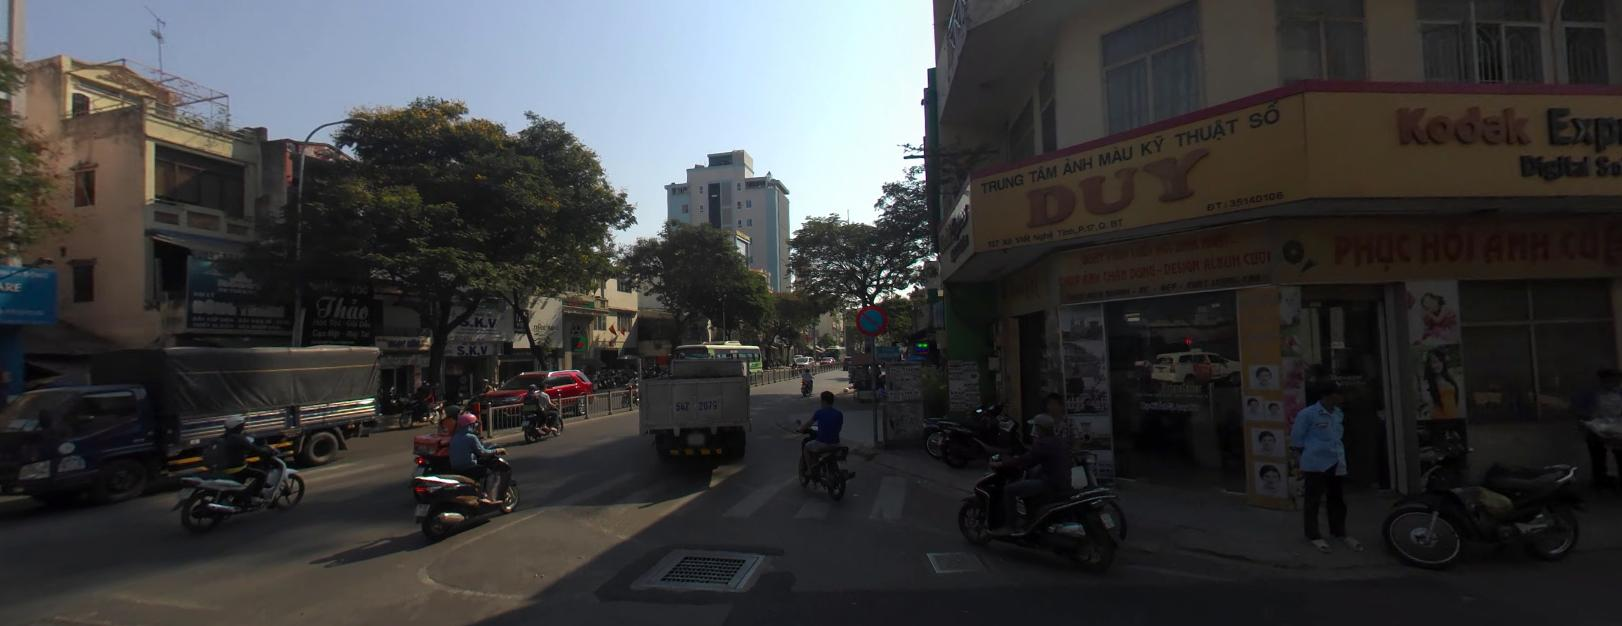Cam dung va do: (855, 304, 887, 335)
